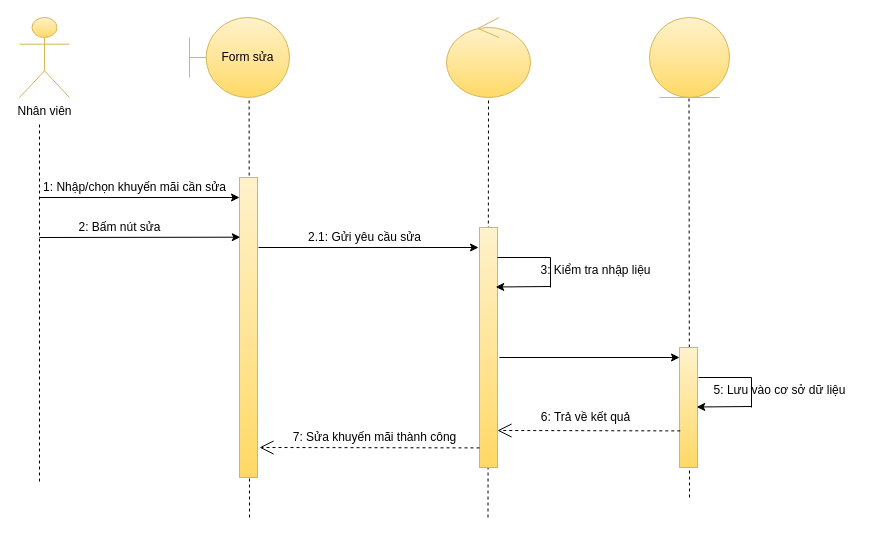
This 871x536 diagram has some shape labels left out. The centre of each missing label's shape, as x and y in pixels:
"Hệ thống" belongs at (689,57).
"Xử lí" belongs at (488,57).
